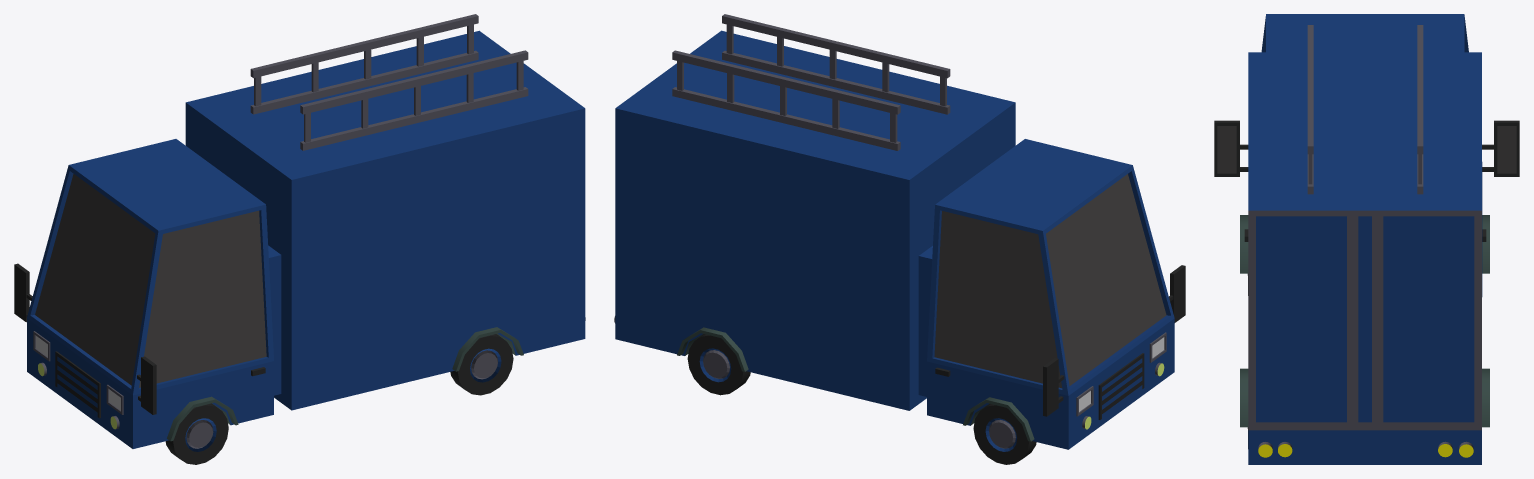
File: van3.FBX
3 views of the same model, side by side, from view 1: azimuth 30°, elevation 25°; view 2: azimuth 150°, elevation 25°; view 3: azimuth 270°, elevation 25° (orthographic). The views are drawn at different scales.
Visible parts, largest first — view 1: van3; view 2: van3; view 3: van3.
Boxes of the visible parts, box(x1,y1,x2,y2) form: van3: box(14, 14, 585, 464); van3: box(614, 14, 1185, 464); van3: box(1214, 14, 1519, 464).
Size of the model in its own units: 12.53 by 7.95 by 6.53.
